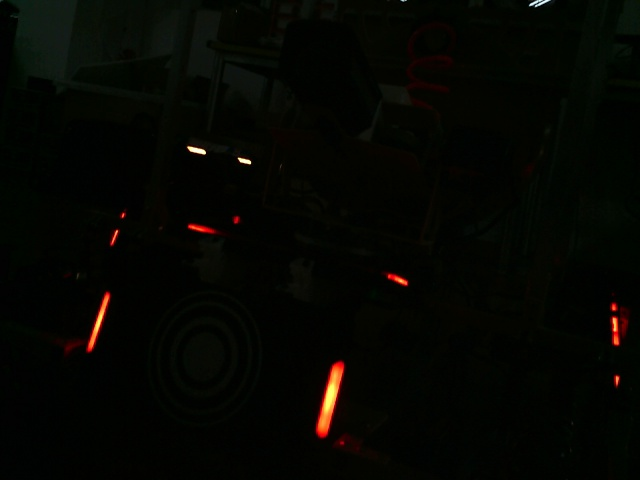lamp: (315, 360, 345, 440), (82, 291, 113, 352)
